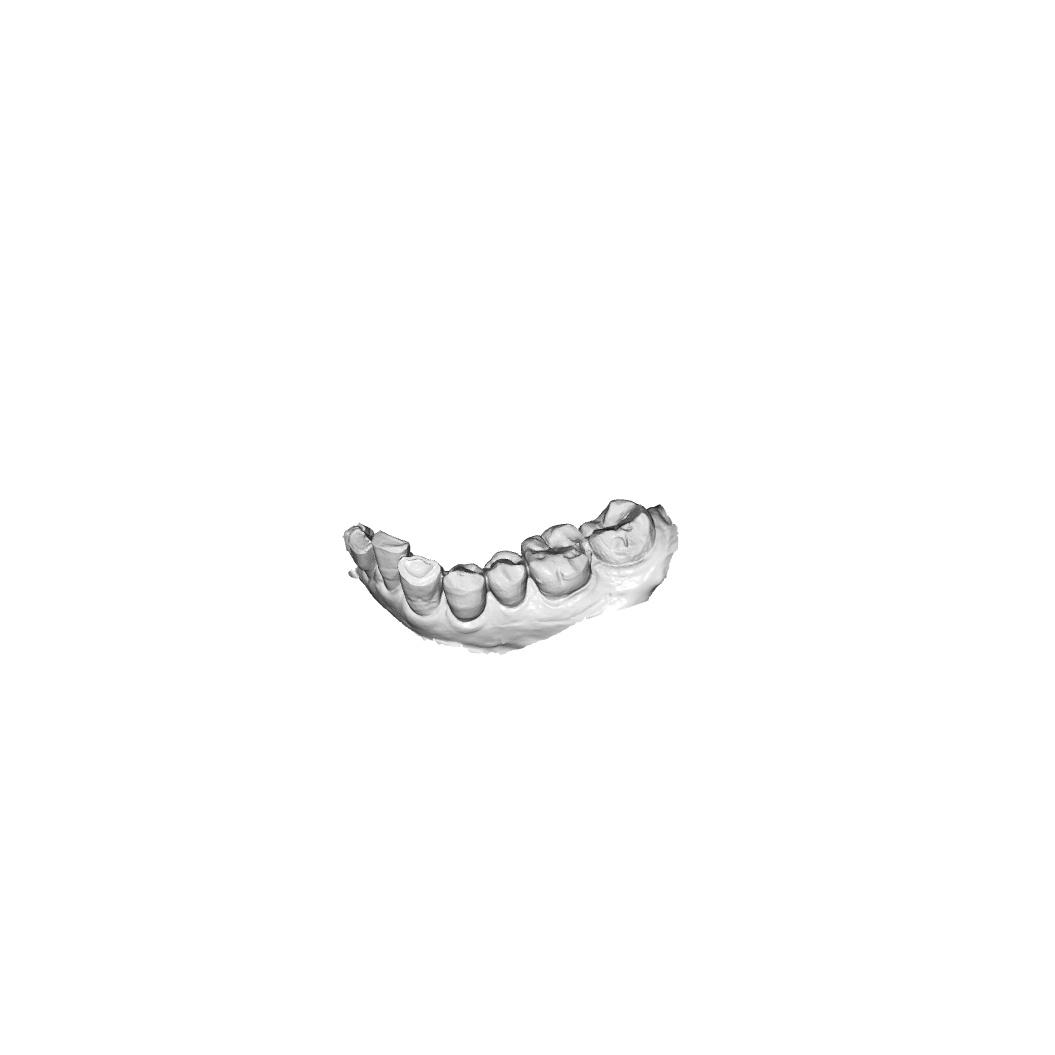canine: (397, 553, 445, 618)
incisor: (371, 529, 411, 591), (346, 525, 376, 583)
molar: (520, 522, 594, 599), (578, 498, 657, 565)
premolar: (441, 561, 488, 623), (483, 548, 529, 610)
